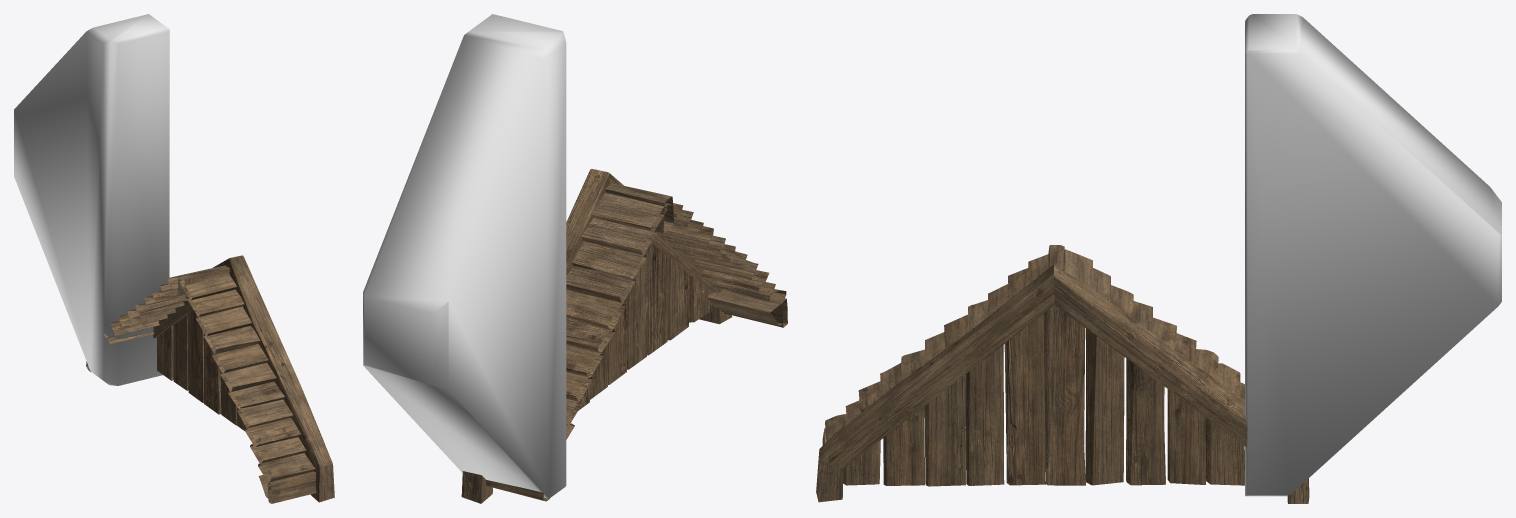
The model's file is SM_Roof_Small_End_A.fbx.
3 renders of one model, left to right at view 1: azimuth 30°, elevation 25°; view 2: azimuth 150°, elevation 25°; view 3: azimuth 270°, elevation 25°, orthographic. The views are drawn at different scales.
Parts seen in each view (by area): view 1: SM_Roof_Small_End_A_ConvexHulls, SM_Roof_Small_End_A; view 2: SM_Roof_Small_End_A_ConvexHulls, SM_Roof_Small_End_A; view 3: SM_Roof_Small_End_A_ConvexHulls, SM_Roof_Small_End_A.
Part boxes in pixels (box(x1,y1,x2,y2)): SM_Roof_Small_End_A_ConvexHulls: box(14, 14, 169, 385); SM_Roof_Small_End_A: box(86, 255, 334, 503); SM_Roof_Small_End_A_ConvexHulls: box(363, 14, 566, 498); SM_Roof_Small_End_A: box(461, 169, 787, 503); SM_Roof_Small_End_A_ConvexHulls: box(1245, 14, 1501, 496); SM_Roof_Small_End_A: box(816, 245, 1309, 503).
Size of the model in its own units: 1.26 by 6.84 by 9.32.
